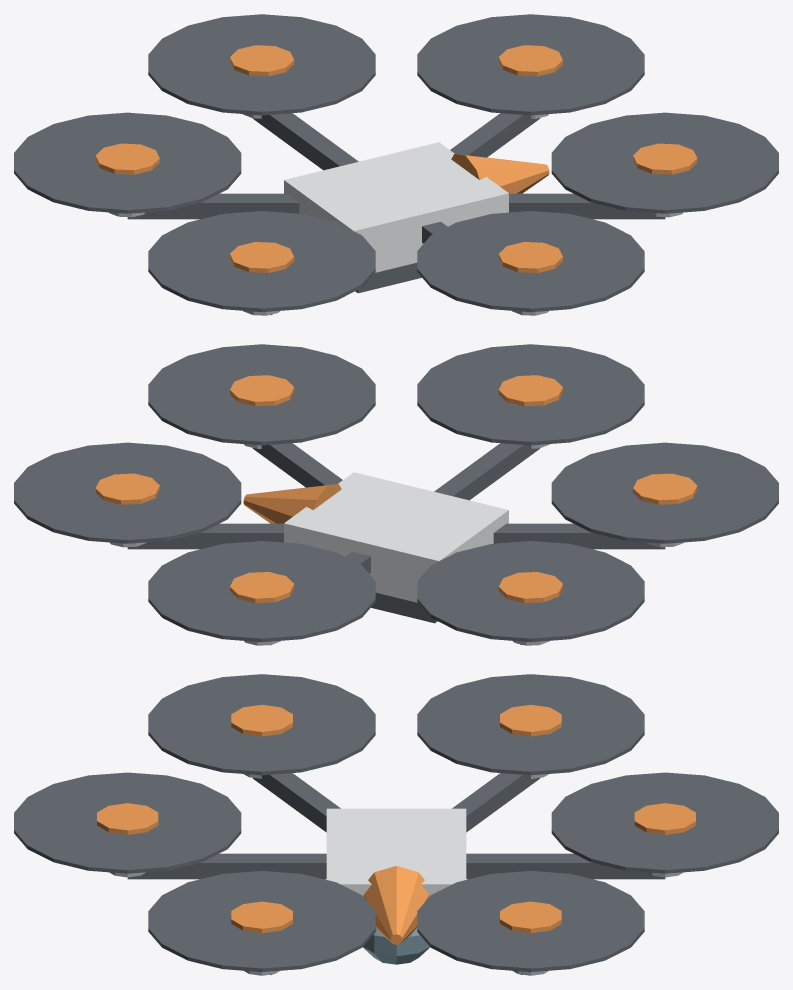
Rendered from hexacopter.glb.
The picture shows the model from 3 angles, top to bottom: view 1: azimuth 30°, elevation 25°; view 2: azimuth 150°, elevation 25°; view 3: azimuth 270°, elevation 25°; orthographic projection.
Size of the model in its own units: 3.5 by 0.595 by 3.84.
